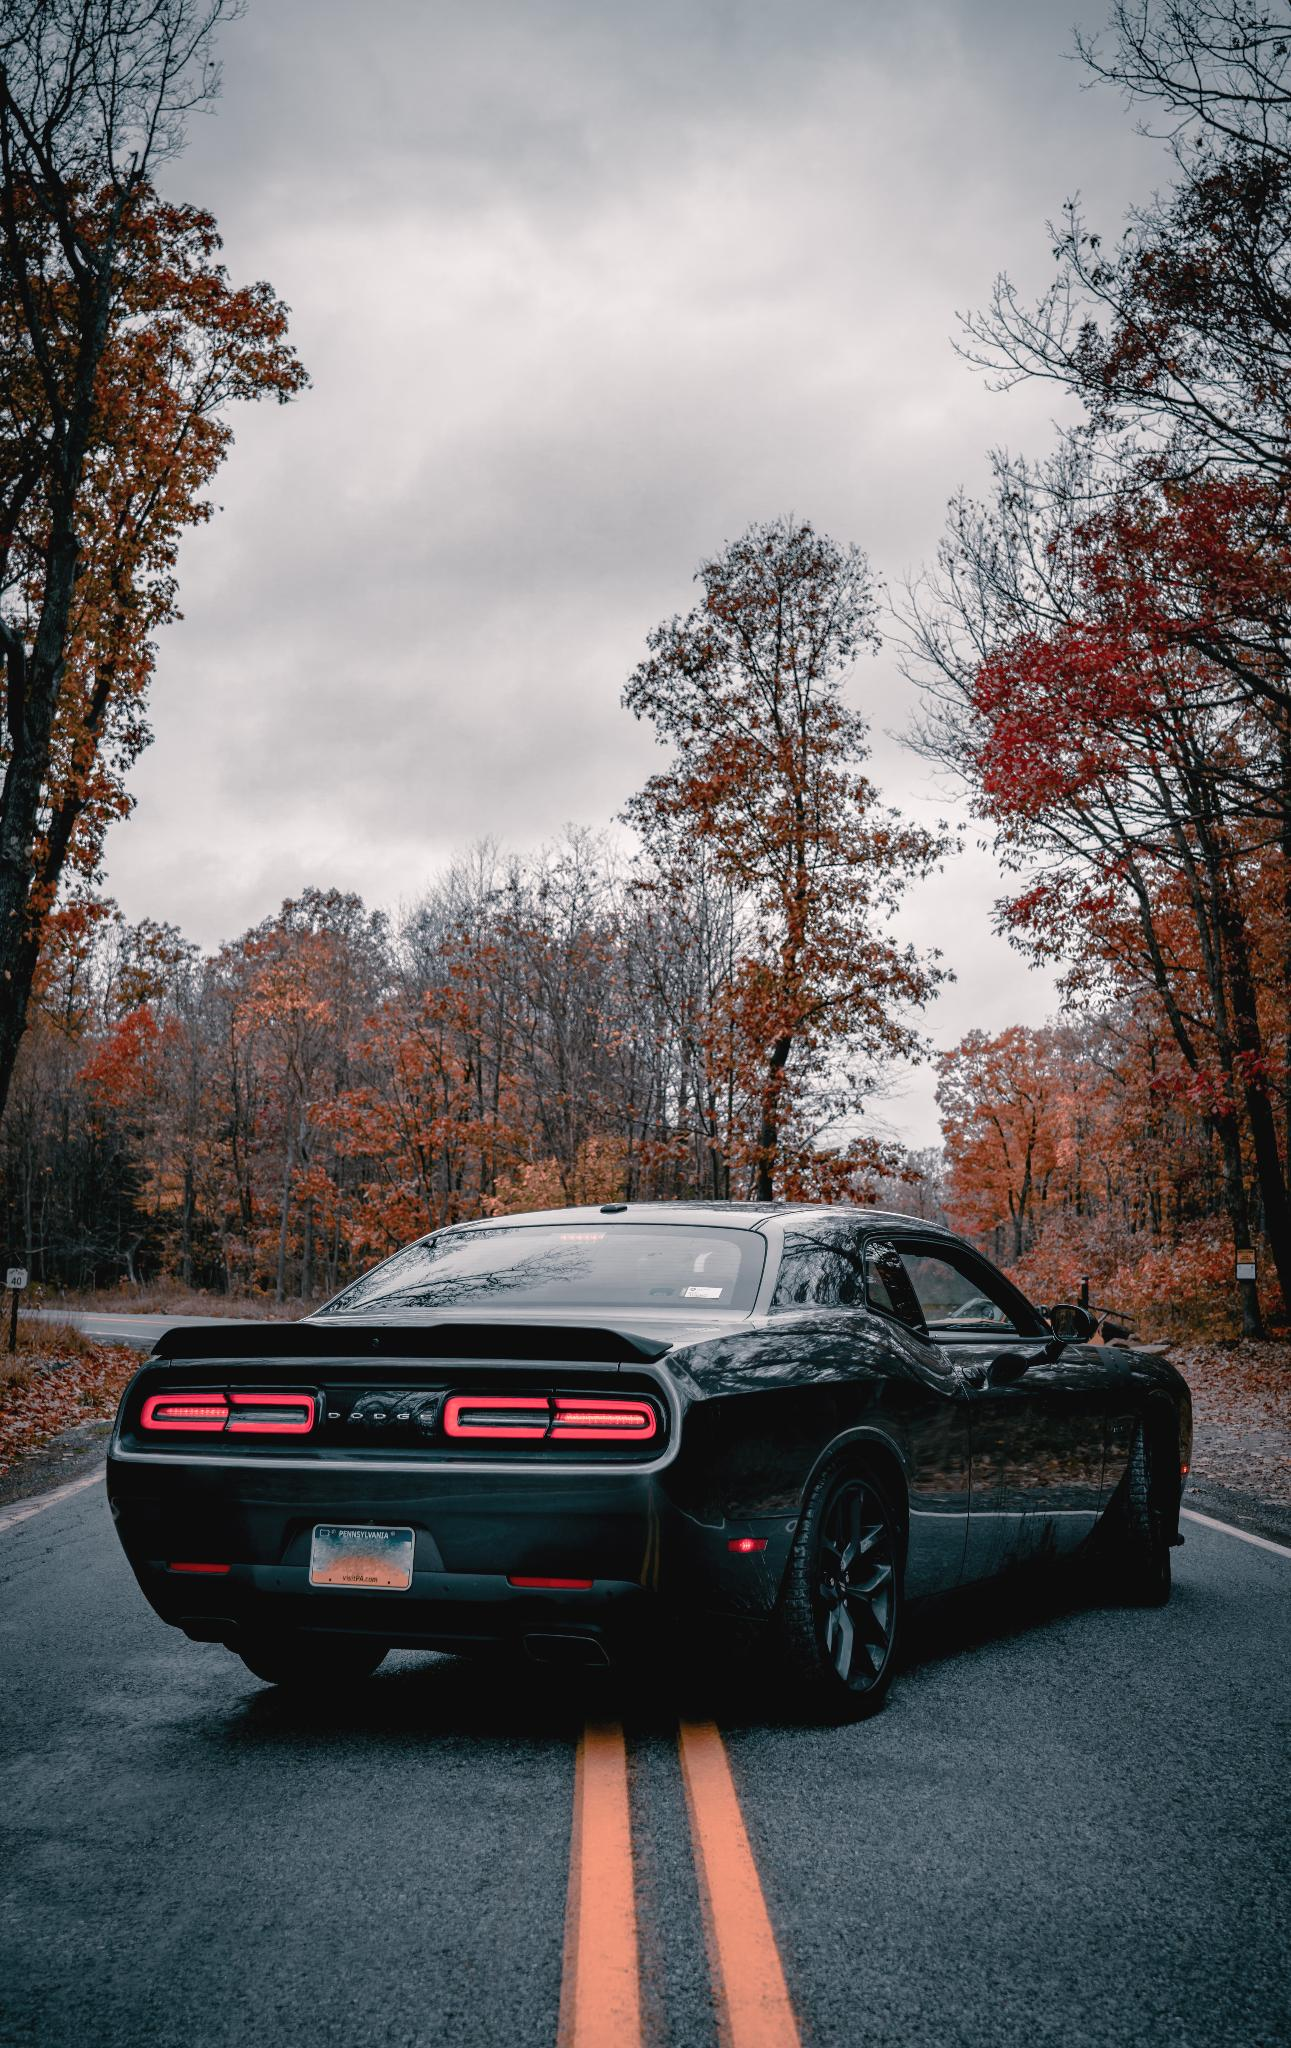dodge: (317, 1400, 446, 1434)
